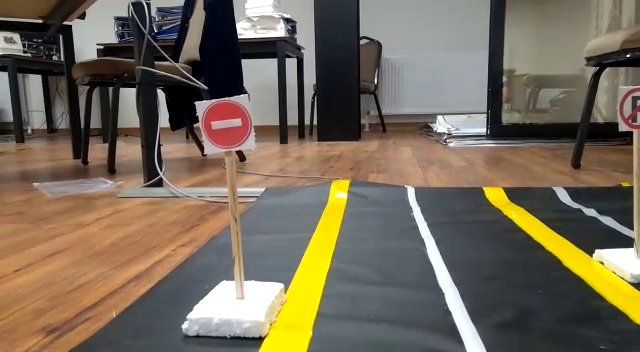girisi_olmayan_yol: (196, 99, 255, 152)
park_yapilmaz: (615, 79, 639, 135)
